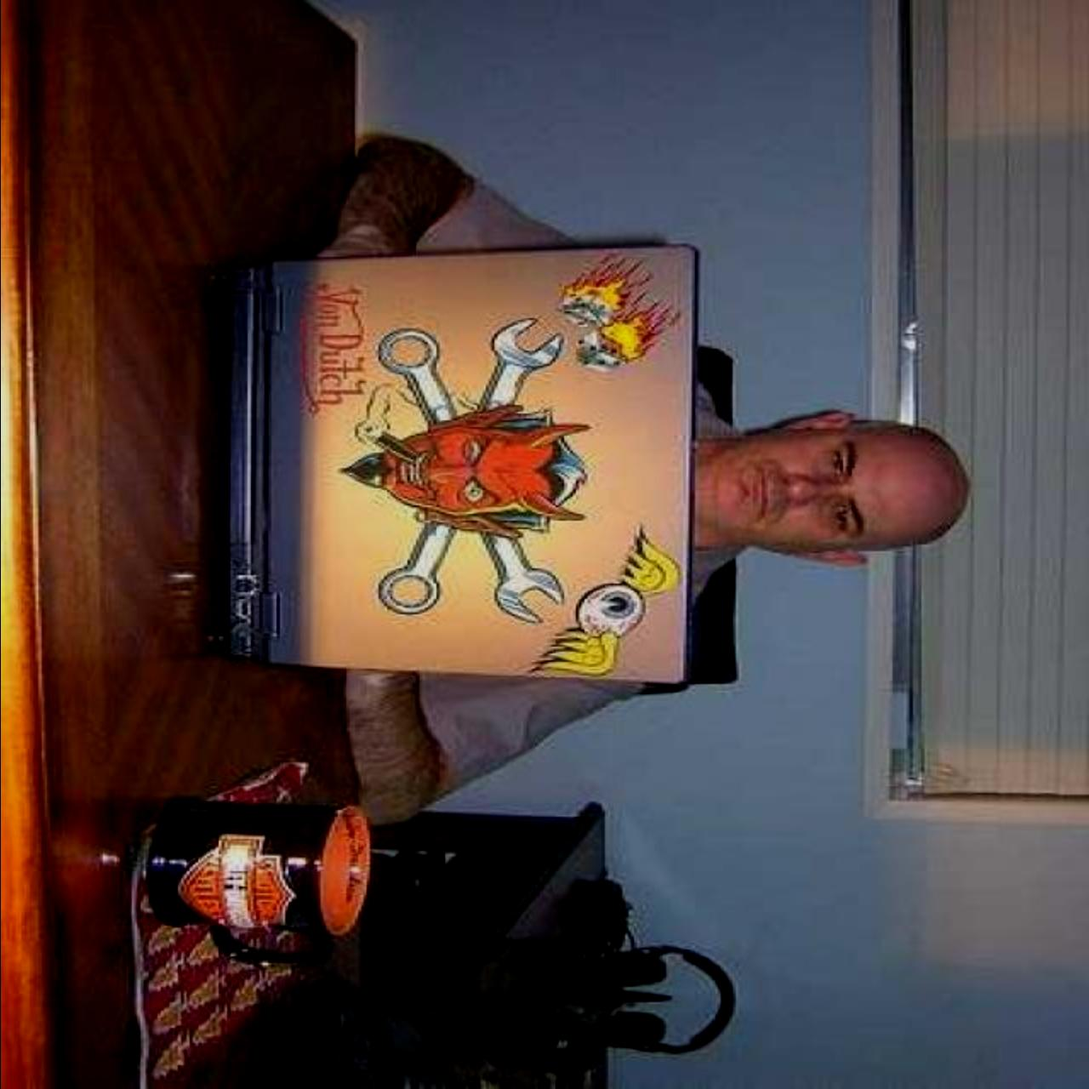laptop: (185, 223, 714, 696)
